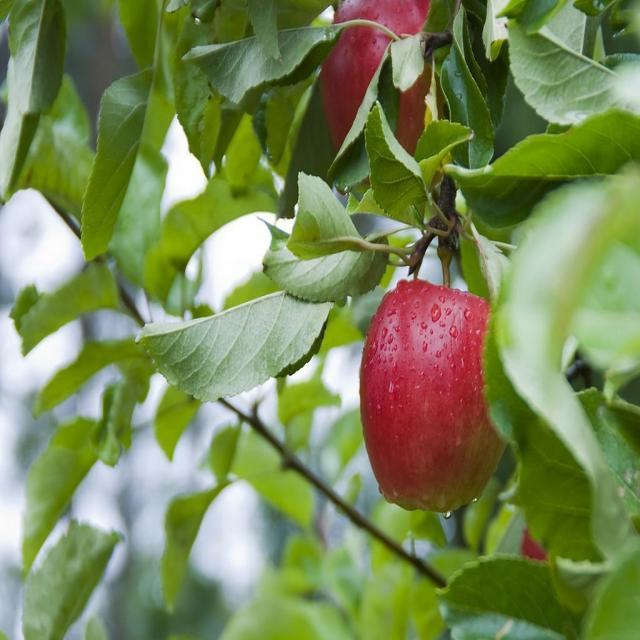Red Apple: (359, 276, 505, 510), (332, 1, 433, 124)
